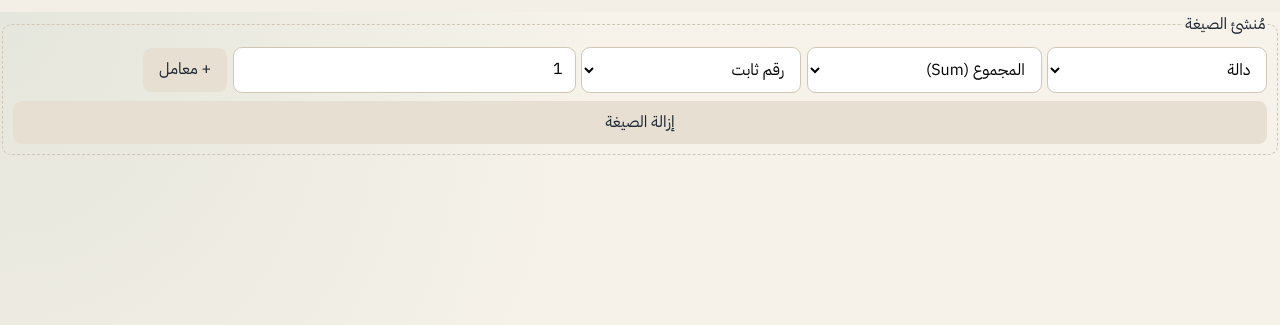
it: FormulaBuilder › adds and removes arguments for variadic functions
Click the button "+ معامل" at (185,70), box [143,48,227,92]
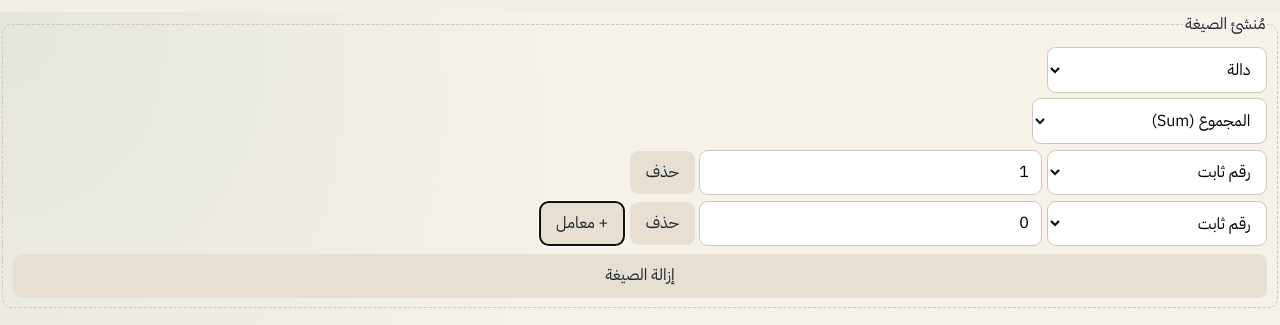
Expected: the number of dropdowns named "نوع العنصر" is 3, [1047,47,1267,93]; [1047,150,1267,195]; [1047,201,1267,246]
Click the button with aria-label "حذف المعامل" at (662,172), box [630,151,695,194]
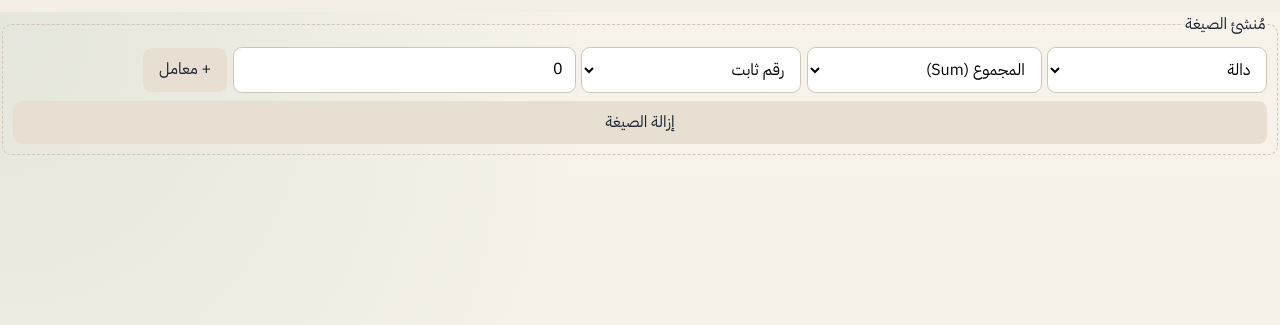
Expected: the number of dropdowns named "نوع العنصر" is 2, [1047,47,1267,93]; [581,47,801,93]
